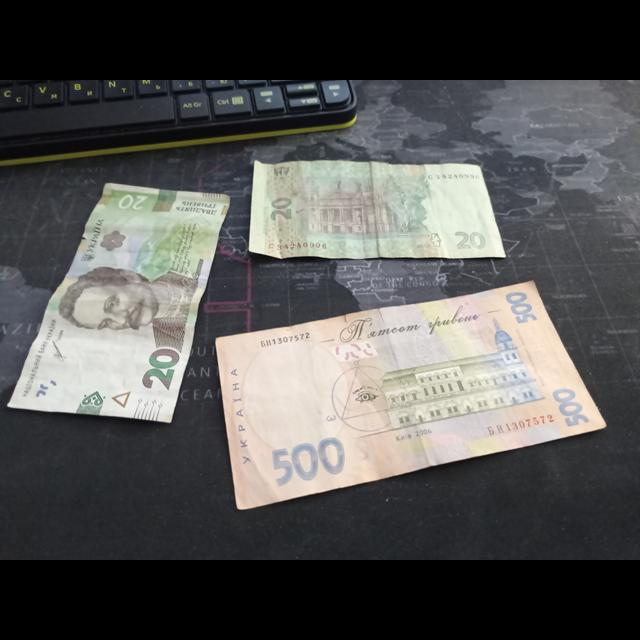20uah: (9, 184, 229, 424), (249, 160, 506, 258)
500uah: (215, 281, 606, 511)
